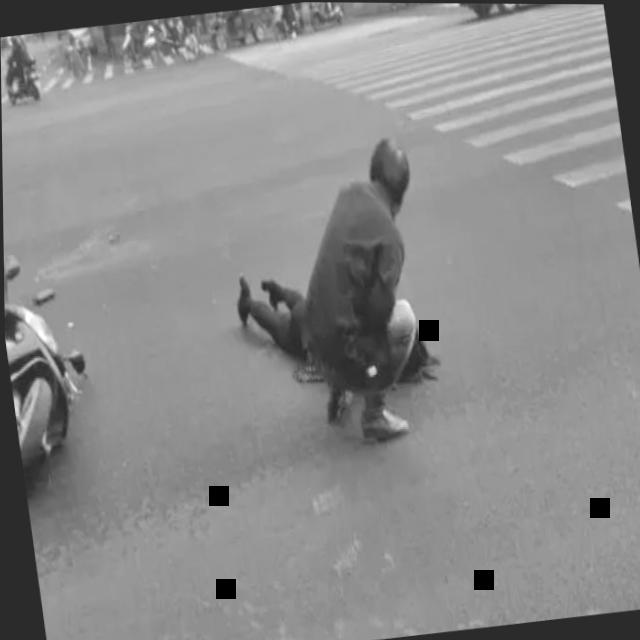Fall-Detected: (214, 230, 436, 421)
